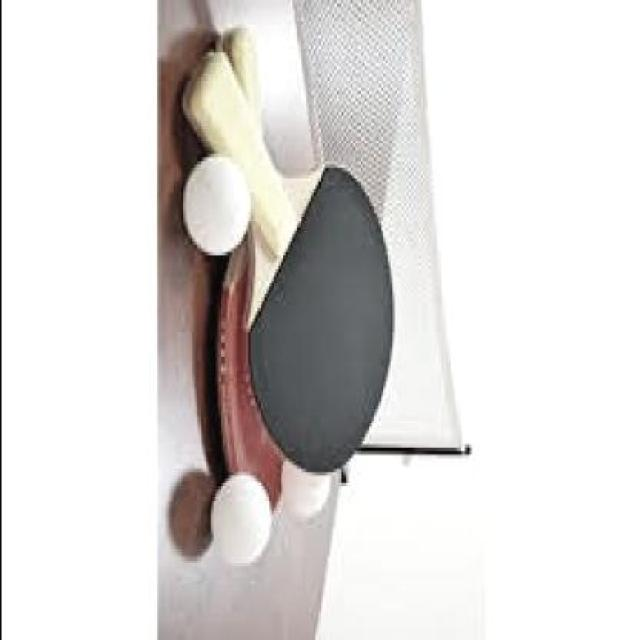table_tennis_racket: (251, 166, 395, 483)
